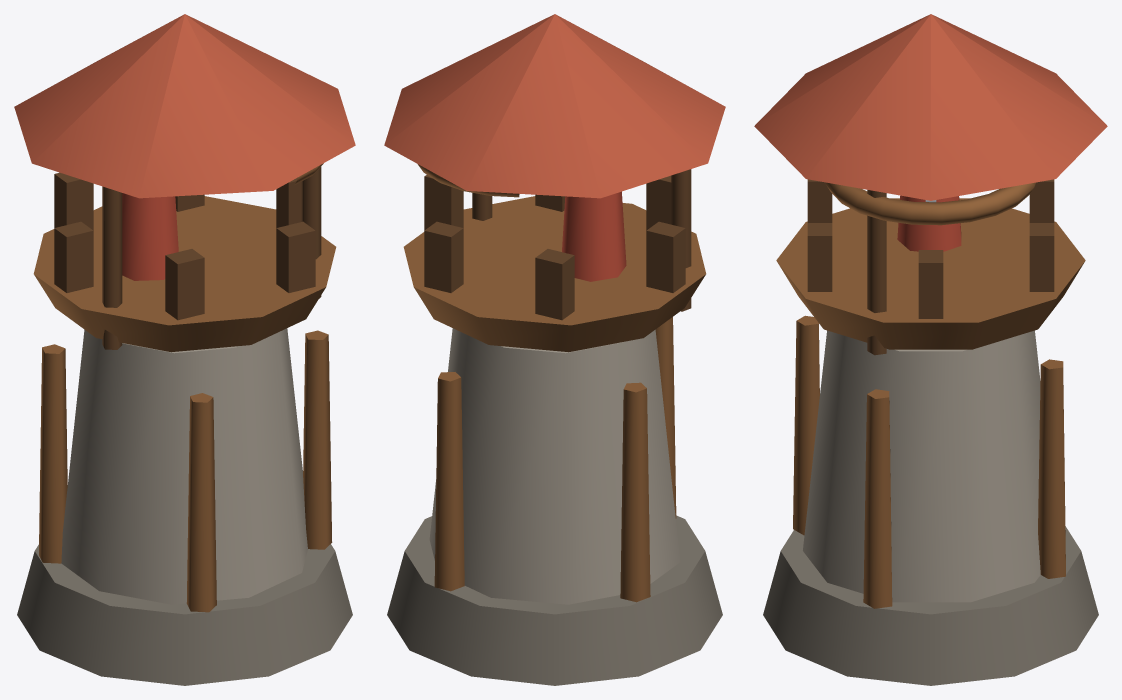
File: tower_archer.glb
The picture shows the model from 3 angles, left to right: view 1: azimuth 30°, elevation 25°; view 2: azimuth 150°, elevation 25°; view 3: azimuth 270°, elevation 25°; orthographic projection.
Visible parts, largest first — view 1: tower_shaft, tower_roof, tower_base, platform_deck, scaffold_post (×3), railing (×5), archer, roof_post (×2); view 2: tower_shaft, tower_roof, tower_base, platform_deck, scaffold_post (×3), railing (×5), archer, roof_post (×2); view 3: tower_shaft, tower_roof, tower_base, platform_deck, scaffold_post (×3), railing (×5), bow, roof_post, archer.
Part boxes in pixels (x1,y1,x2,y2): tower_shaft: (61, 328, 307, 604); tower_roof: (14, 14, 355, 198); tower_base: (17, 544, 352, 685); platform_deck: (33, 196, 336, 352); scaffold_post (×3): (39, 330, 332, 612); railing (×5): (54, 172, 315, 320); archer: (122, 193, 178, 280); roof_post (×2): (102, 166, 321, 349); tower_shaft: (429, 328, 680, 604); tower_roof: (384, 14, 725, 198); tower_base: (387, 515, 722, 685); platform_deck: (403, 196, 706, 352); scaffold_post (×3): (434, 317, 676, 602); railing (×5): (424, 175, 685, 320); archer: (562, 191, 626, 281); roof_post (×2): (472, 169, 691, 311); tower_shaft: (803, 330, 1040, 602); tower_roof: (754, 14, 1107, 200); tower_base: (763, 526, 1098, 685); platform_deck: (776, 198, 1085, 349); scaffold_post (×3): (793, 315, 1065, 608); railing (×5): (807, 179, 1054, 318); bow: (825, 182, 1035, 225); roof_post: (867, 190, 886, 355); archer: (897, 195, 961, 251).
Size of the model in its own units: 0.4 by 0.75 by 0.4.
